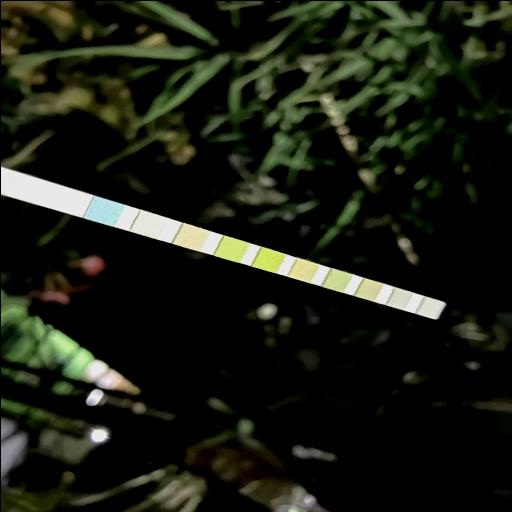Bilirubin: (136, 216, 162, 233)
Blood: (258, 252, 278, 268)
Glucose: (90, 202, 116, 219)
Ketone: (180, 229, 202, 245)
Leukocytes: (422, 300, 438, 314)
Nitrite: (392, 292, 406, 306)
Protein: (328, 274, 345, 288)
SpGravity: (221, 241, 241, 257)
Urobilinogen: (360, 283, 376, 297)
pH: (295, 263, 313, 277)
strip: (0, 165, 446, 318)
